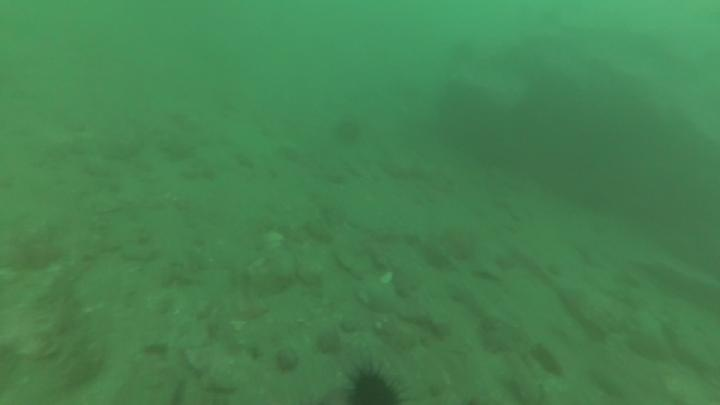echinus: (342, 363, 407, 404), (330, 114, 365, 149)
holothurian: (35, 276, 106, 389)
